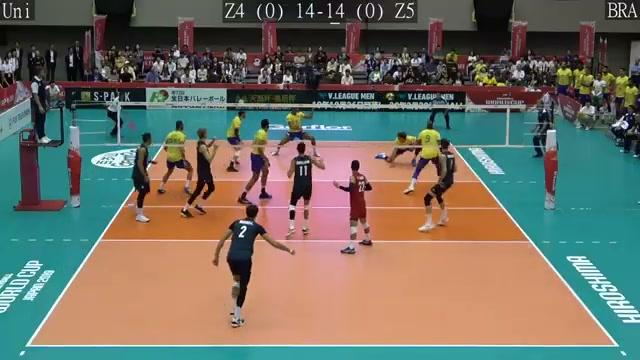ball: (384, 90, 397, 102)
